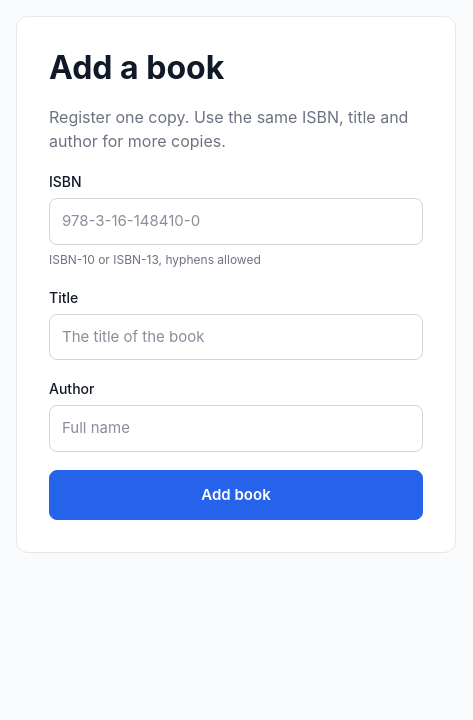
AddBookPage › adds another copy with the same values in one click and counts them
Step 1. Type "978-955-675-510-7" into the field labelled "ISBN" → (236, 222), box [49,198,423,245]
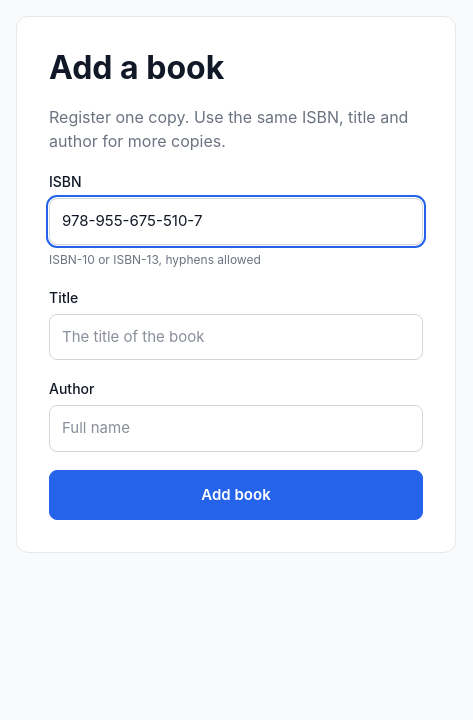
Step 2. Type "Dune" into the field labelled "Title" → (236, 337), box [49,314,423,360]
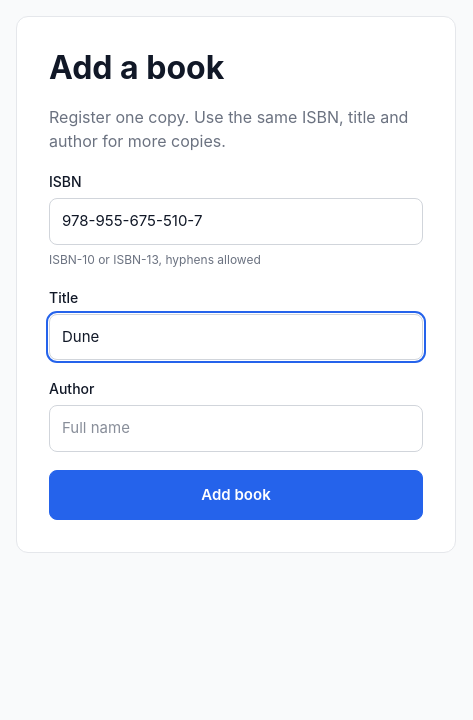
Step 3. Type "Frank Herbert" into the field labelled "Author" → (236, 429), box [49,405,423,452]
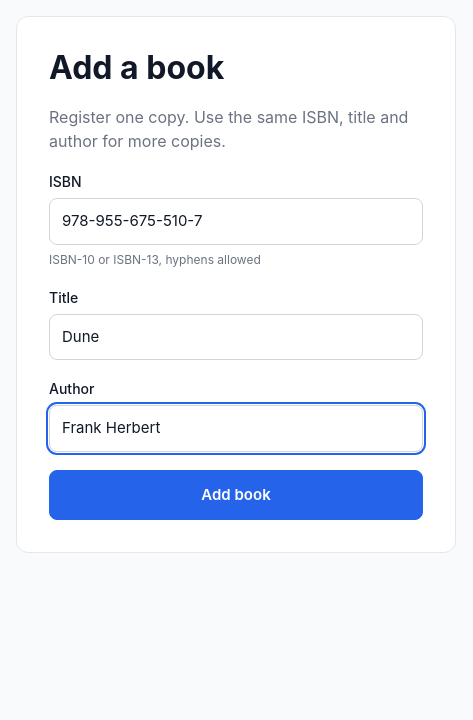
Step 4. Click the button "Add book" → (236, 495), box [49,470,423,520]
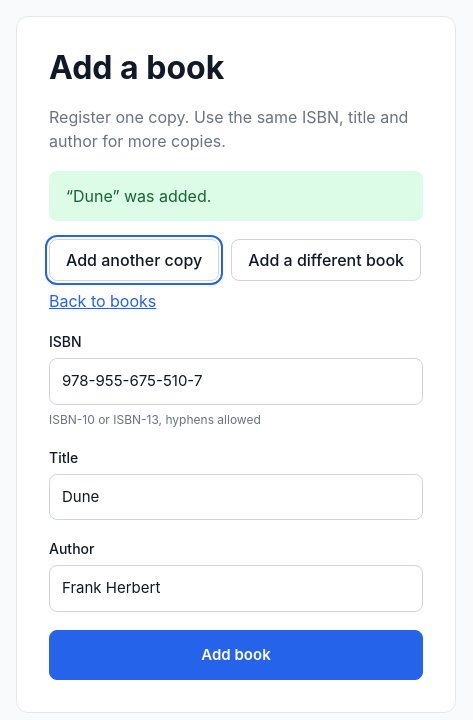
Step 5. Click the button "Add another copy" → (134, 260), box [49,239,219,281]
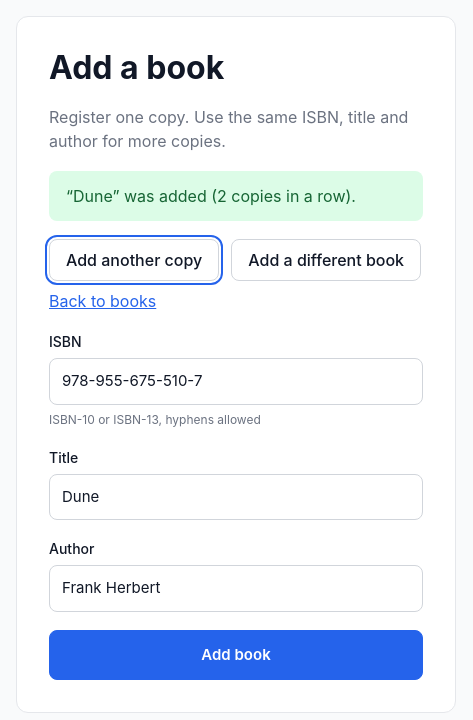
Result: the text "“Dune” was added (2 copies in a row)." is shown at [49,171,423,221]
